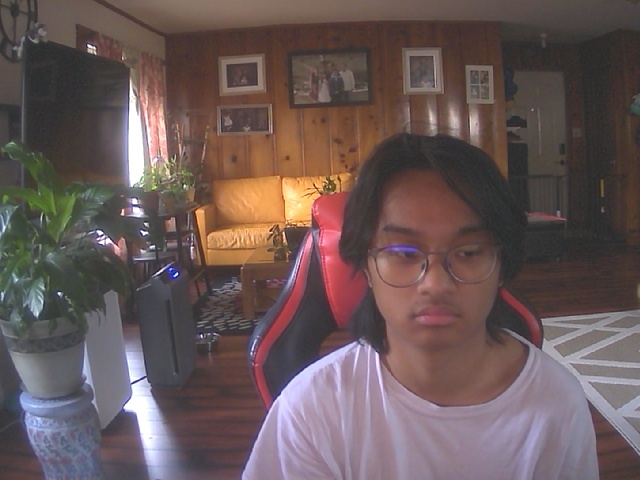neutral: (362, 137, 516, 353)
